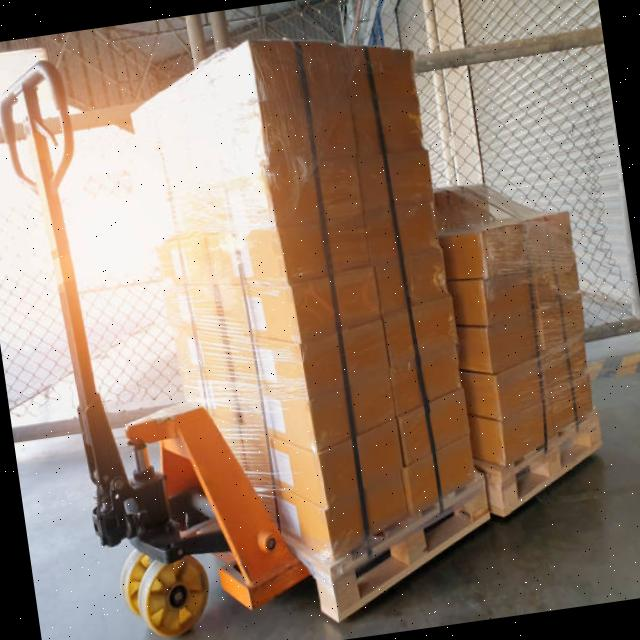Wooden-Pallets: (324, 471, 497, 632), (493, 395, 620, 526)
